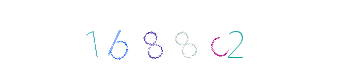1: (93, 0, 173, 80)
2: (177, 0, 257, 80)
8: (130, 0, 210, 80), (138, 0, 218, 80)
B: (102, 0, 182, 80)
C: (144, 0, 224, 80)
